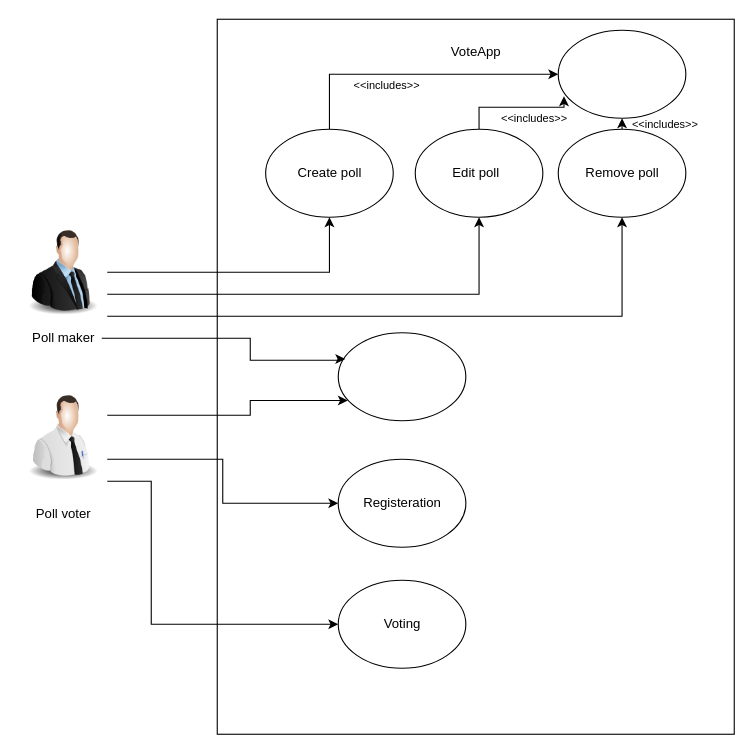
The diagram is 754 pixels wide and 754 high, and some of its shapes have lost their labels. Here are the shapes that lost their labels. From the top down, the box of each, then its label:
(557, 29, 686, 118): Login
(337, 332, 466, 421): Search polls
